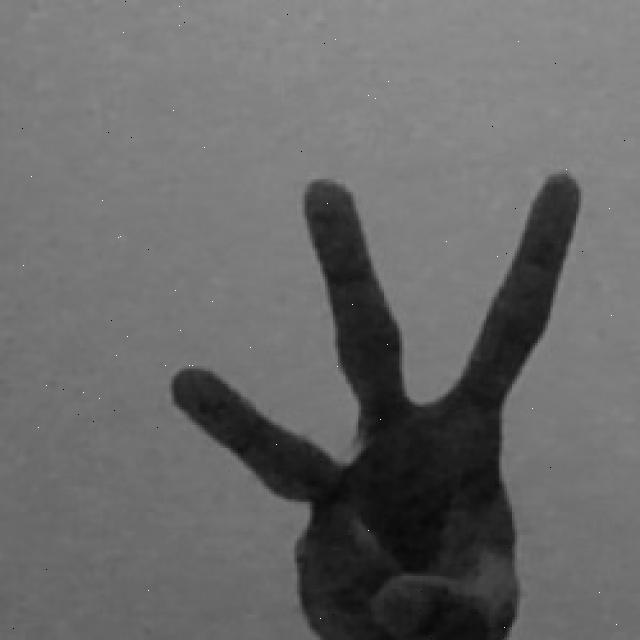W: (161, 164, 587, 640)
